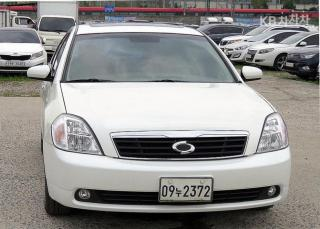0: (162, 185, 169, 199)
2: (183, 184, 190, 198), (204, 185, 211, 198)
3: (190, 184, 197, 197)
7: (197, 185, 204, 197)
9: (168, 184, 175, 199)
plate: (155, 172, 216, 205)
누: (175, 187, 183, 198)
